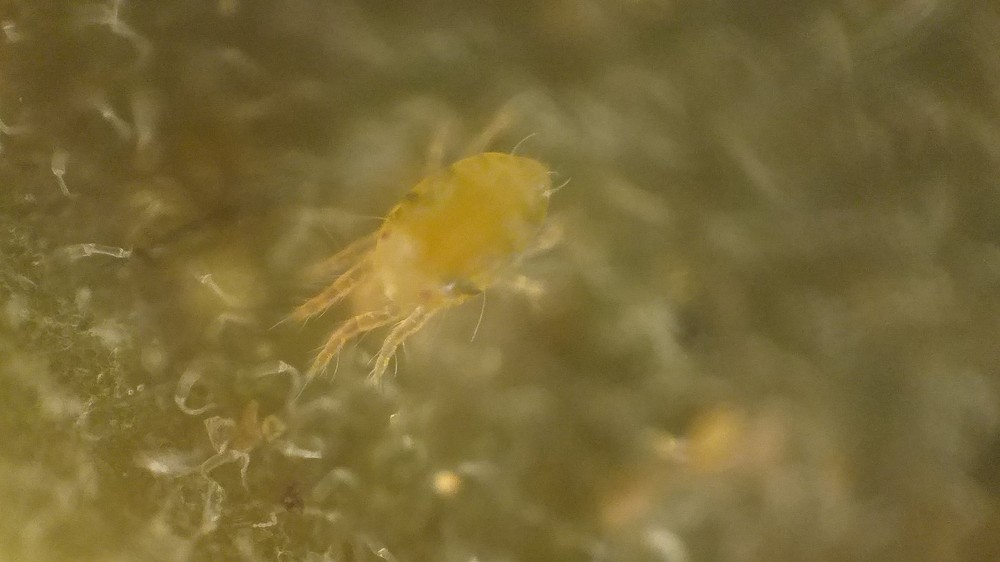Aracnido Rojo: (266, 101, 591, 395)
